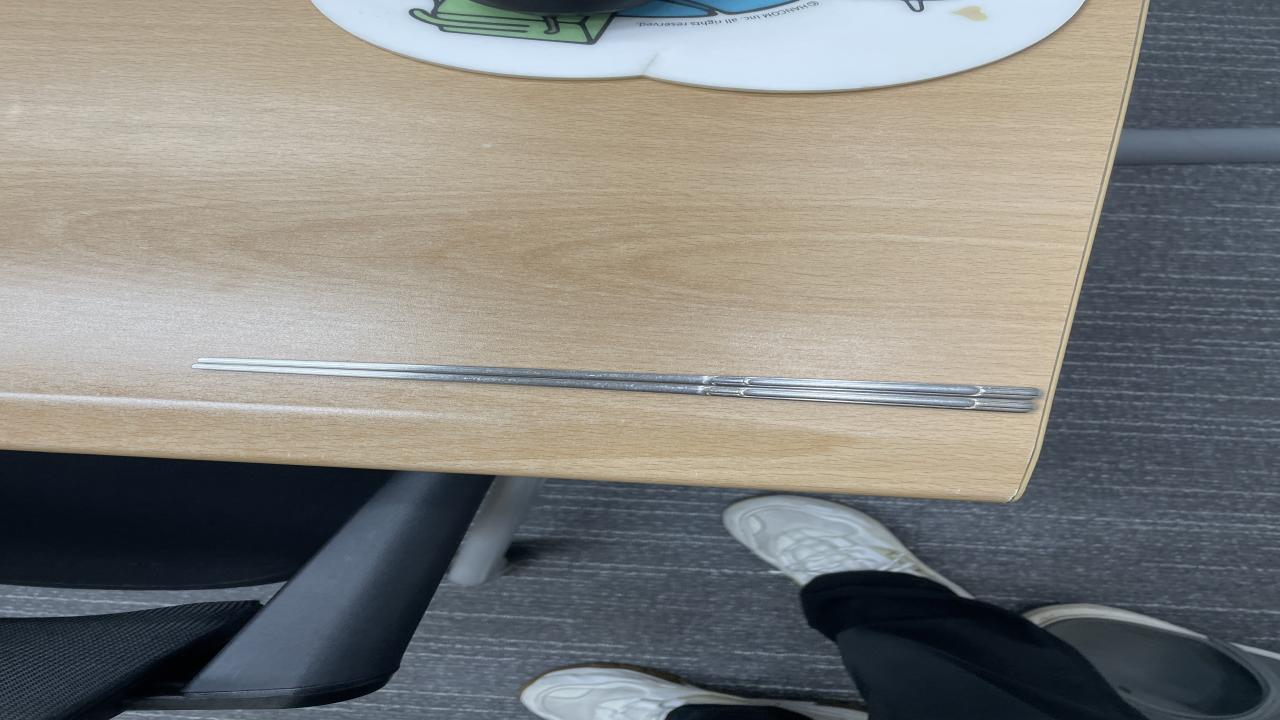chopstick: (179, 350, 1046, 414)
